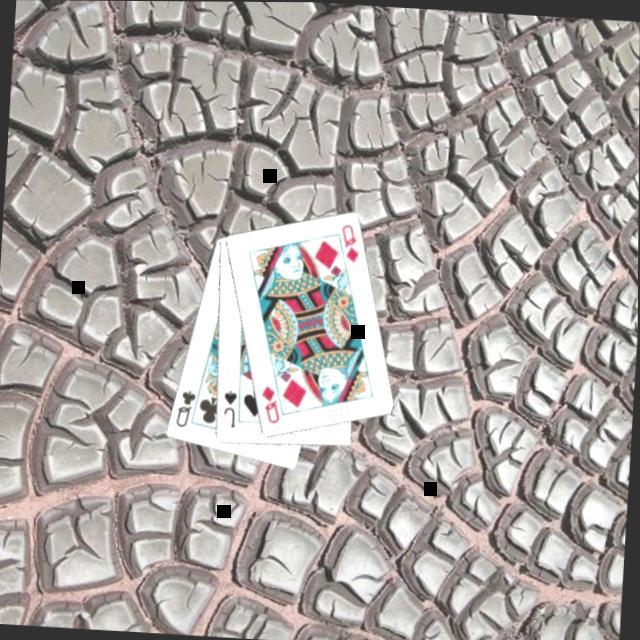JS: (221, 388, 242, 431)
QC: (174, 388, 200, 431)
QD: (258, 384, 286, 426), (339, 222, 365, 266)
